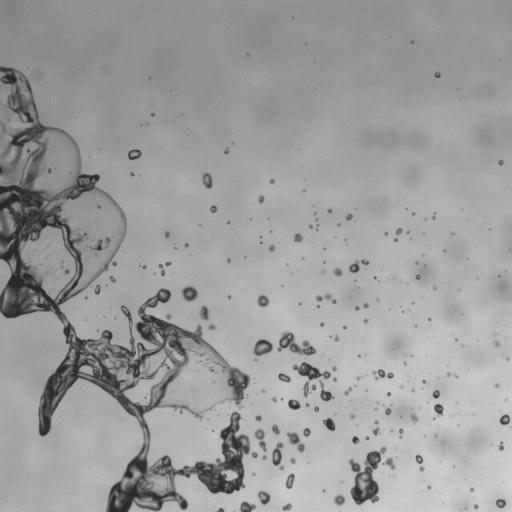droplet: (348, 446, 395, 505), (292, 361, 333, 401), (253, 339, 273, 356), (181, 286, 197, 301), (158, 261, 171, 275), (257, 491, 270, 504), (239, 501, 255, 511), (257, 294, 269, 307), (322, 418, 335, 430), (202, 173, 212, 188), (285, 473, 294, 489), (288, 399, 300, 410), (128, 149, 141, 159), (199, 306, 208, 320), (334, 494, 345, 505), (499, 414, 509, 425), (278, 373, 290, 382), (434, 404, 443, 416), (496, 498, 506, 508), (410, 413, 418, 424), (94, 218, 103, 227), (272, 425, 280, 435), (294, 233, 302, 242), (333, 268, 342, 276), (415, 454, 423, 463), (372, 427, 380, 435), (283, 503, 291, 511), (94, 284, 100, 294), (210, 205, 217, 213), (344, 387, 351, 395), (432, 390, 439, 398), (303, 428, 310, 436), (352, 436, 359, 443), (258, 195, 264, 203), (346, 213, 352, 220), (385, 407, 391, 414), (208, 324, 216, 329), (498, 442, 503, 450), (396, 228, 402, 234), (269, 245, 275, 251), (109, 276, 115, 282), (255, 415, 261, 421), (434, 72, 440, 77), (333, 336, 339, 341), (494, 341, 500, 346), (290, 457, 295, 463), (269, 178, 274, 183), (64, 269, 69, 274), (363, 303, 368, 308), (419, 466, 424, 471), (165, 231, 169, 237), (399, 429, 403, 435), (224, 148, 228, 153), (498, 160, 503, 164), (96, 204, 101, 208), (416, 274, 420, 279), (363, 318, 368, 322), (332, 366, 336, 371), (194, 368, 198, 373), (272, 397, 276, 402), (314, 406, 318, 411), (130, 172, 134, 176), (184, 243, 188, 247), (142, 265, 146, 269), (355, 306, 359, 310), (320, 322, 324, 326), (446, 372, 450, 376), (356, 376, 360, 380), (261, 389, 265, 393), (305, 403, 309, 407), (350, 414, 354, 418), (262, 455, 266, 459), (427, 485, 431, 489), (474, 504, 478, 508), (432, 213, 435, 218), (327, 209, 331, 212), (309, 224, 312, 228), (227, 258, 230, 262), (227, 295, 231, 298), (342, 326, 346, 329), (453, 374, 457, 377), (333, 377, 336, 381), (422, 380, 426, 383), (495, 383, 498, 387), (386, 392, 390, 395), (411, 40, 414, 43), (151, 113, 154, 116), (315, 226, 318, 229), (394, 238, 397, 241), (506, 357, 509, 360), (403, 362, 406, 365), (375, 420, 378, 423), (470, 488, 473, 491), (315, 218, 318, 220), (227, 221, 230, 223), (385, 232, 387, 235), (433, 286, 436, 288), (428, 318, 430, 321), (358, 354, 360, 357), (212, 380, 214, 383), (432, 417, 435, 419), (366, 436, 368, 439), (252, 473, 255, 475), (337, 223, 339, 225), (407, 231, 409, 233), (322, 270, 324, 272), (374, 277, 376, 279), (317, 305, 319, 307), (455, 339, 457, 341), (190, 369, 192, 371), (400, 386, 402, 388), (412, 389, 414, 391), (434, 434, 436, 436)
ligament: (0, 66, 257, 511), (277, 331, 315, 355), (287, 432, 305, 452), (272, 442, 283, 470), (254, 428, 266, 451), (349, 259, 368, 273), (372, 369, 393, 380), (315, 293, 336, 303), (215, 507, 225, 511)
